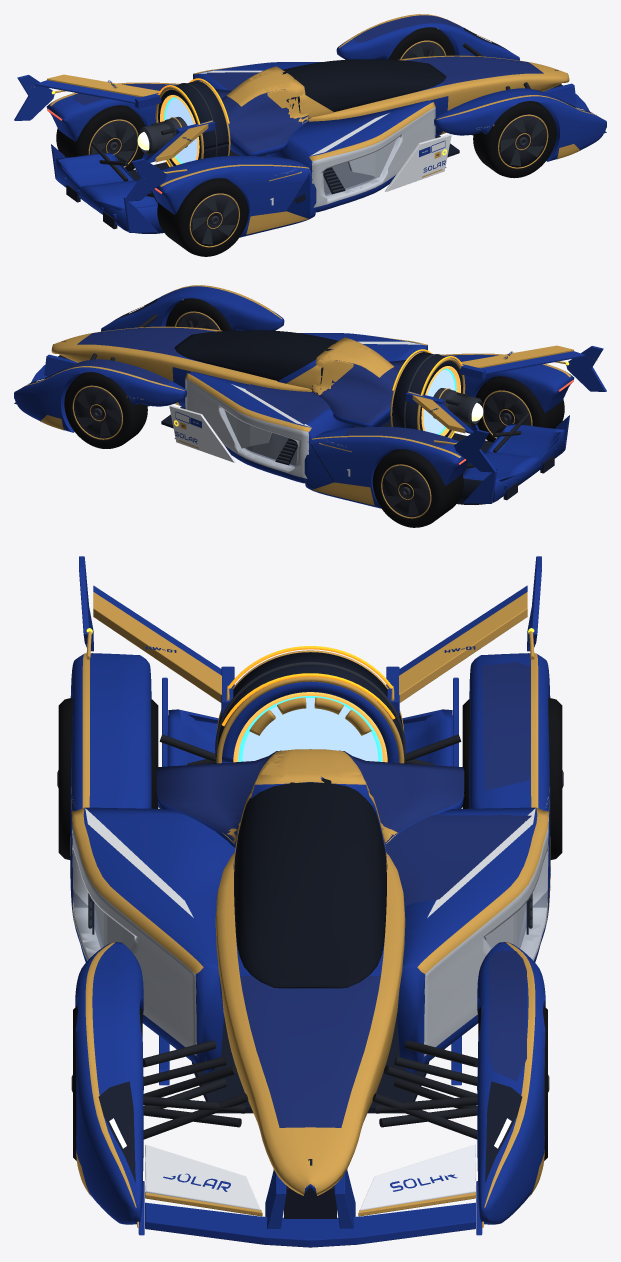
The model's file is solar.glb.
The picture shows the model from 3 angles, top to bottom: view 1: azimuth 30°, elevation 25°; view 2: azimuth 150°, elevation 25°; view 3: azimuth 270°, elevation 25°; orthographic projection. The views are drawn at different scales.
Visible parts, largest first — view 1: body, wheel_RL_spin, wheel_FL_spin, wheel_RR_spin, wheel_FR_spin; view 2: body, wheel_RR_spin, wheel_FR_spin, wheel_RL_spin, wheel_FL_spin; view 3: body, wheel_RL_spin, wheel_RR_spin.
Boxes of the visible parts, left/top/right/bottom form: body: left=14, top=14, right=606, bottom=237; wheel_RL_spin: left=157, top=178, right=248, bottom=256; wheel_FL_spin: left=473, top=101, right=556, bottom=178; wheel_RR_spin: left=56, top=105, right=145, bottom=171; wheel_FR_spin: left=382, top=27, right=454, bottom=59; body: left=14, top=285, right=606, bottom=508; wheel_RR_spin: left=372, top=449, right=463, bottom=527; wheel_FR_spin: left=64, top=372, right=147, bottom=448; wheel_RL_spin: left=475, top=376, right=564, bottom=442; wheel_FL_spin: left=166, top=298, right=238, bottom=330; body: left=70, top=556, right=550, bottom=1247; wheel_RL_spin: left=57, top=697, right=158, bottom=859; wheel_RR_spin: left=462, top=697, right=563, bottom=859.
Bounding box in the file's own units: 6.17 × 1.36 × 2.67.
Materials: 23 (1 with a texture image).
